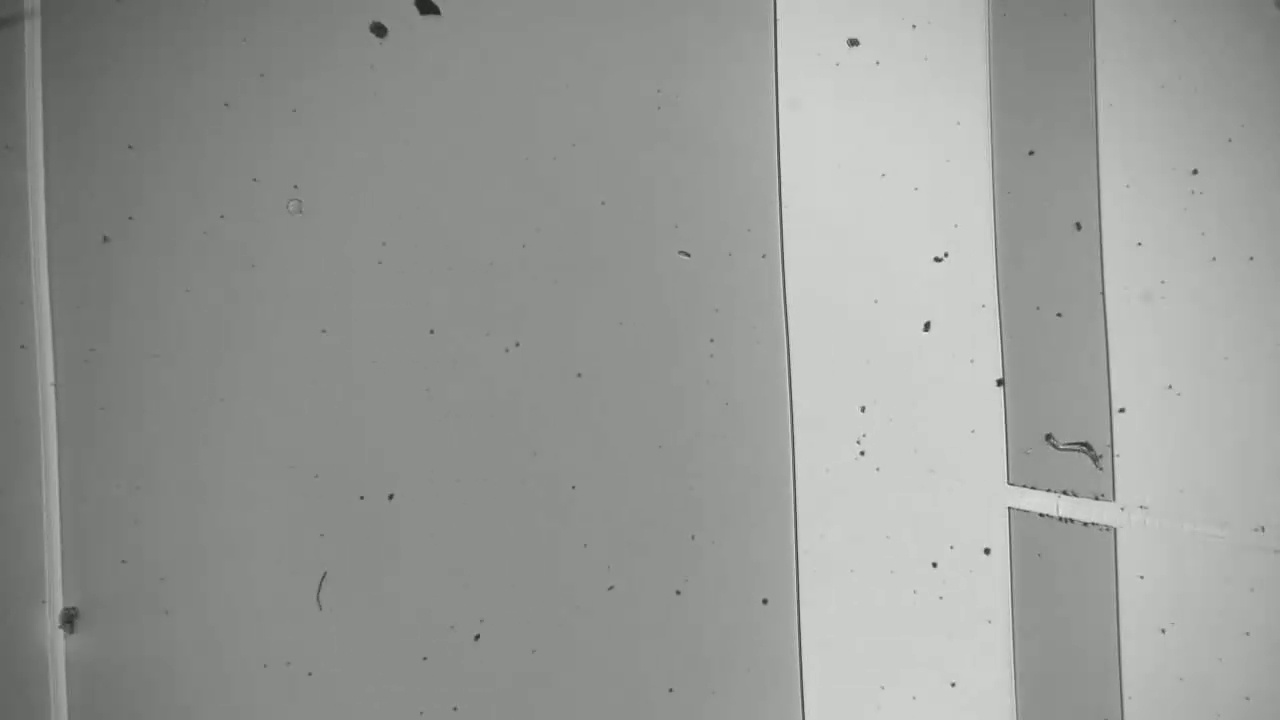Short_circuit: (989, 468, 1138, 538)
stains_enbedded: (36, 600, 88, 643)
